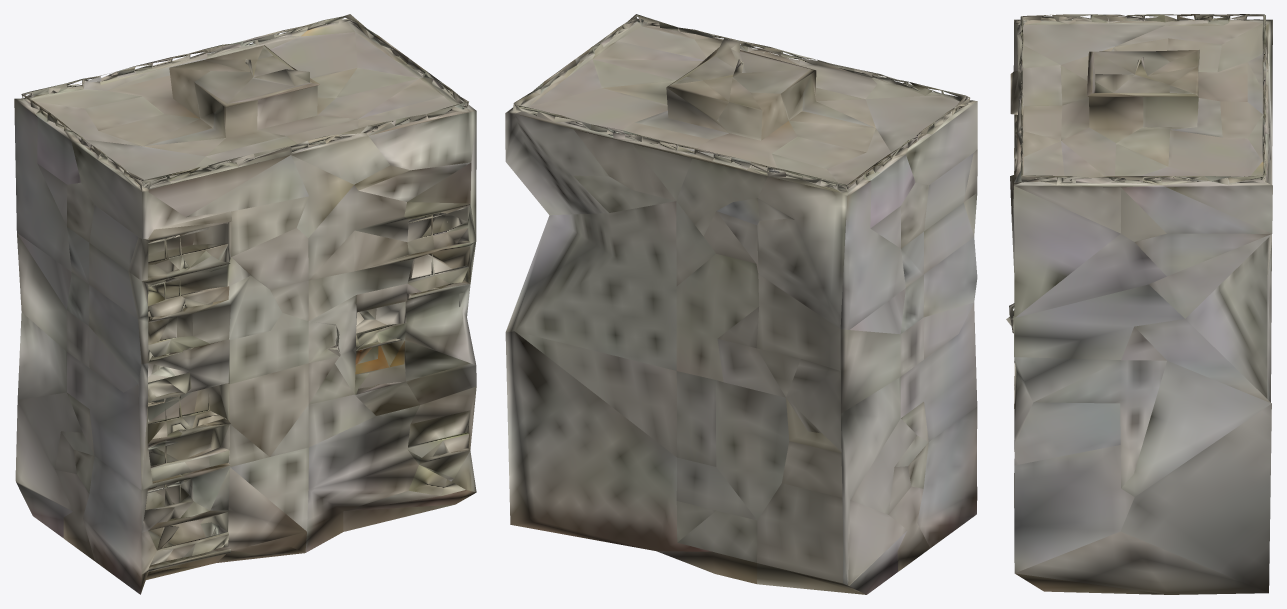
Rendered from upload-bf86-lod.glb.
The picture shows the model from 3 angles, left to right: view 1: azimuth 30°, elevation 25°; view 2: azimuth 150°, elevation 25°; view 3: azimuth 270°, elevation 25°; orthographic projection. The views are drawn at different scales.
Visible parts, largest first — view 1: tripo_node_bf86d584-49de-4696-8dff-eeb6e7afe4e7; view 2: tripo_node_bf86d584-49de-4696-8dff-eeb6e7afe4e7; view 3: tripo_node_bf86d584-49de-4696-8dff-eeb6e7afe4e7.
Part boxes in pixels (x1=…): tripo_node_bf86d584-49de-4696-8dff-eeb6e7afe4e7: x1=14, y1=14, x2=476, y2=594; tripo_node_bf86d584-49de-4696-8dff-eeb6e7afe4e7: x1=505, y1=14, x2=977, y2=594; tripo_node_bf86d584-49de-4696-8dff-eeb6e7afe4e7: x1=1006, y1=14, x2=1272, y2=594.
Bounding box in the file's own units: 0.7462 × 0.9532 × 0.5067.
Materials: 1 (1 with a texture image).
